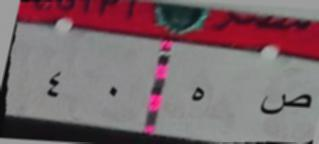0: (97, 74, 126, 108)
4: (41, 63, 67, 107)
haa: (183, 80, 211, 112)
saad: (255, 84, 314, 124)
